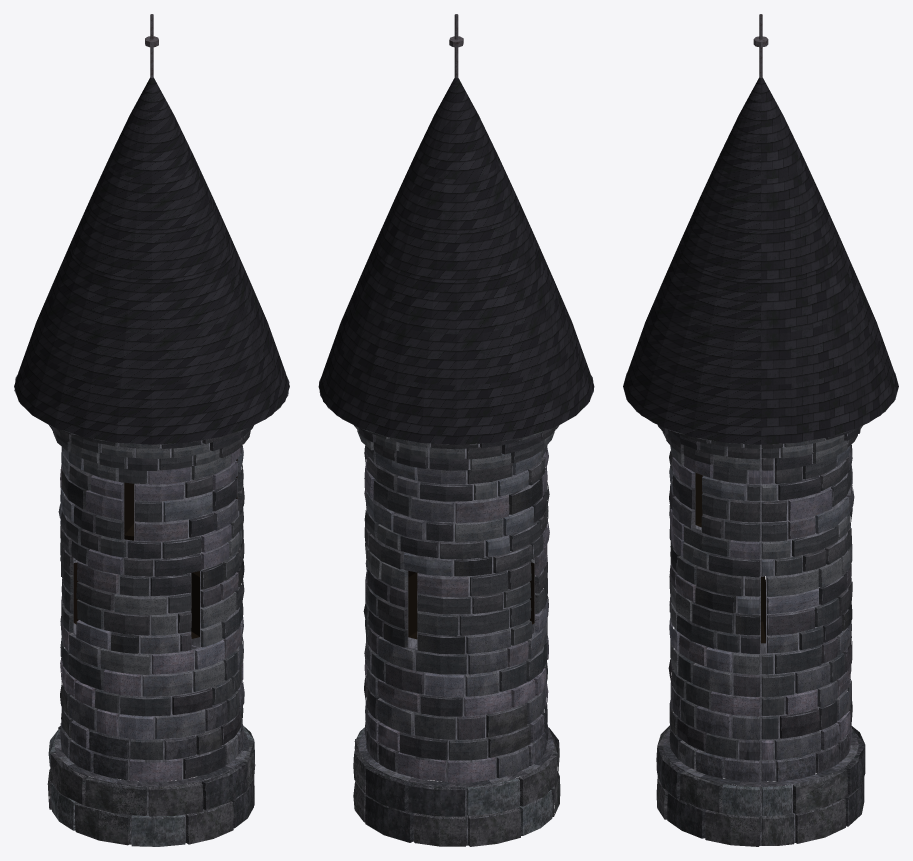
File: fort_tower_cone.glb
The picture shows the model from 3 angles, left to right: view 1: azimuth 30°, elevation 25°; view 2: azimuth 150°, elevation 25°; view 3: azimuth 270°, elevation 25°; orthographic projection.
Parts seen in each view (by area): view 1: fort_tower_cone; view 2: fort_tower_cone; view 3: fort_tower_cone.
Boxes of the visible parts, x1,y1,x2,y2 form: fort_tower_cone: (14, 14, 289, 846); fort_tower_cone: (318, 14, 594, 846); fort_tower_cone: (623, 14, 898, 846).
Size of the model in its own units: 3.78 by 11.94 by 3.78.
5 materials, 5 textured.
